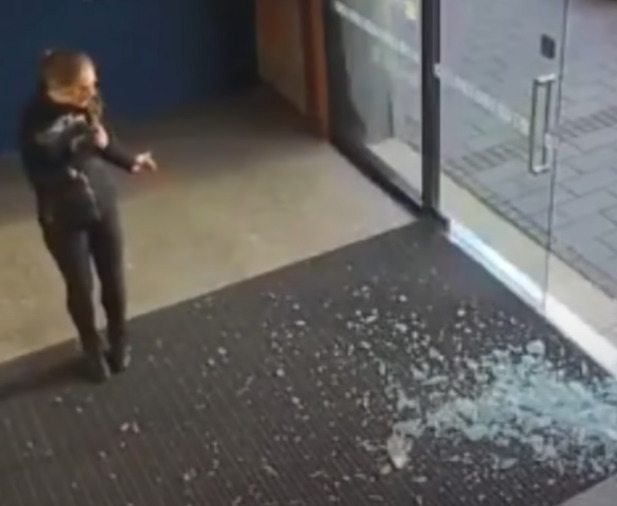person: (19, 47, 159, 381)
